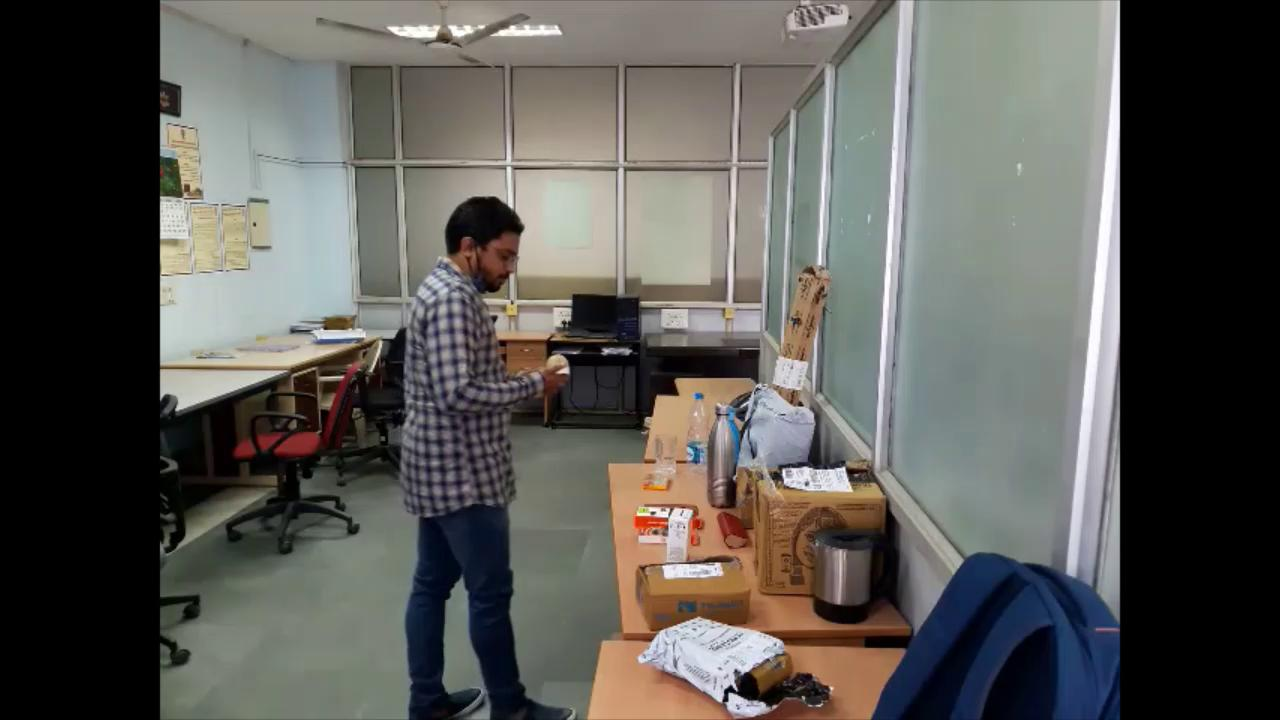Normal: (393, 192, 574, 720)
